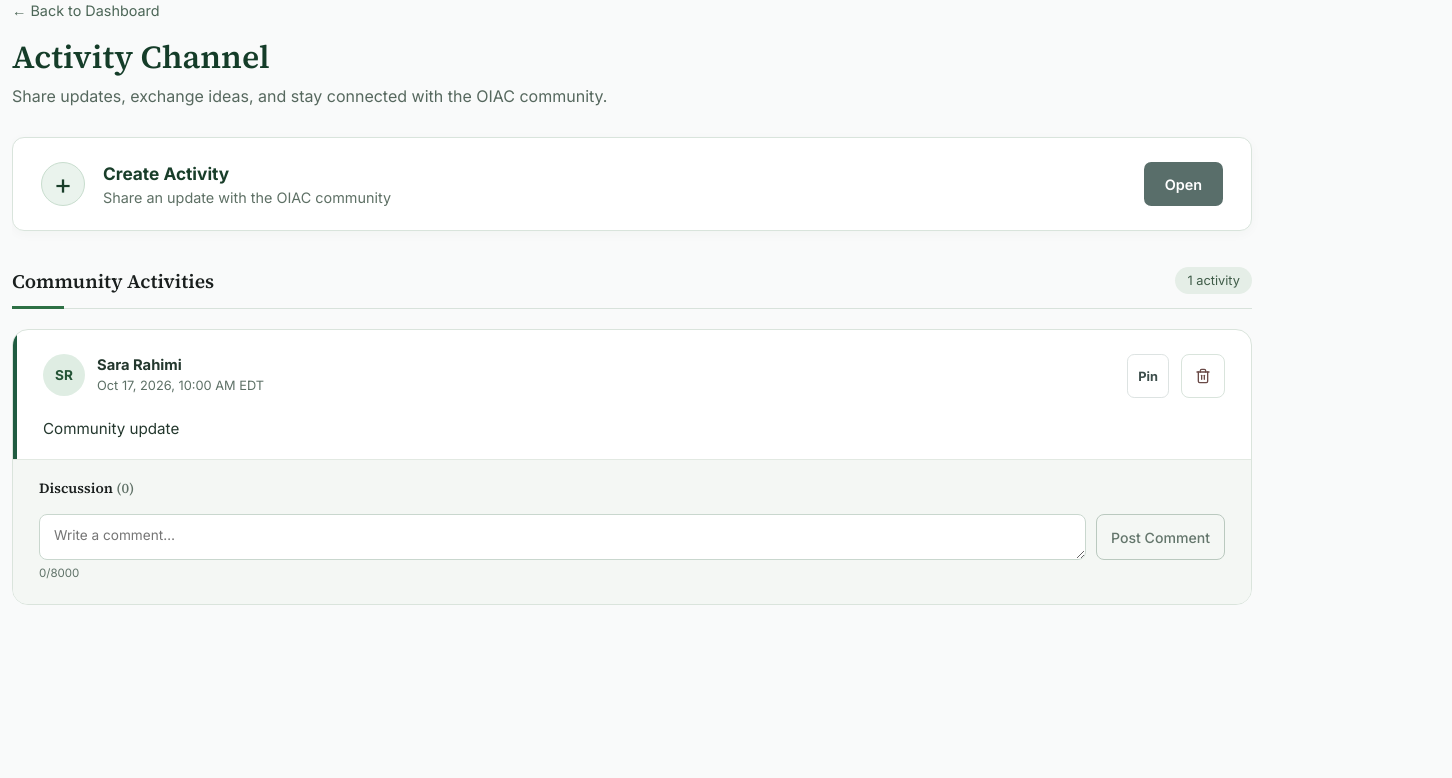
Test: confirmed comment remains saved when its refresh fails, with a retry for reads
Expected: the text "Community update" is shown, [43,419,179,438]
Type "New comment" into the text box named "Comment content" at {"x": 562, "y": 537}, box [39,514,1086,560]
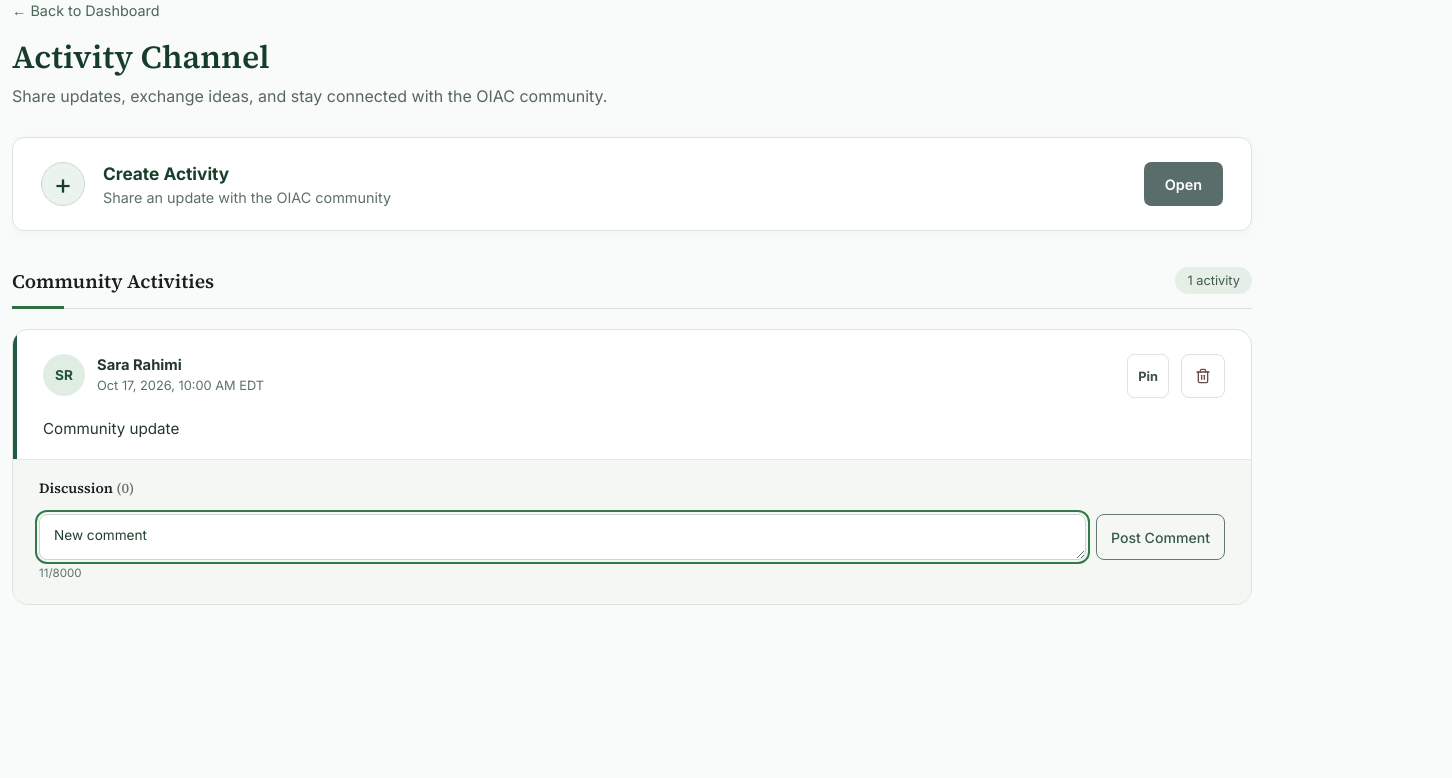
Click the button "Post Comment" at {"x": 1160, "y": 537}, box [1096,514,1225,560]
(page scrolled)
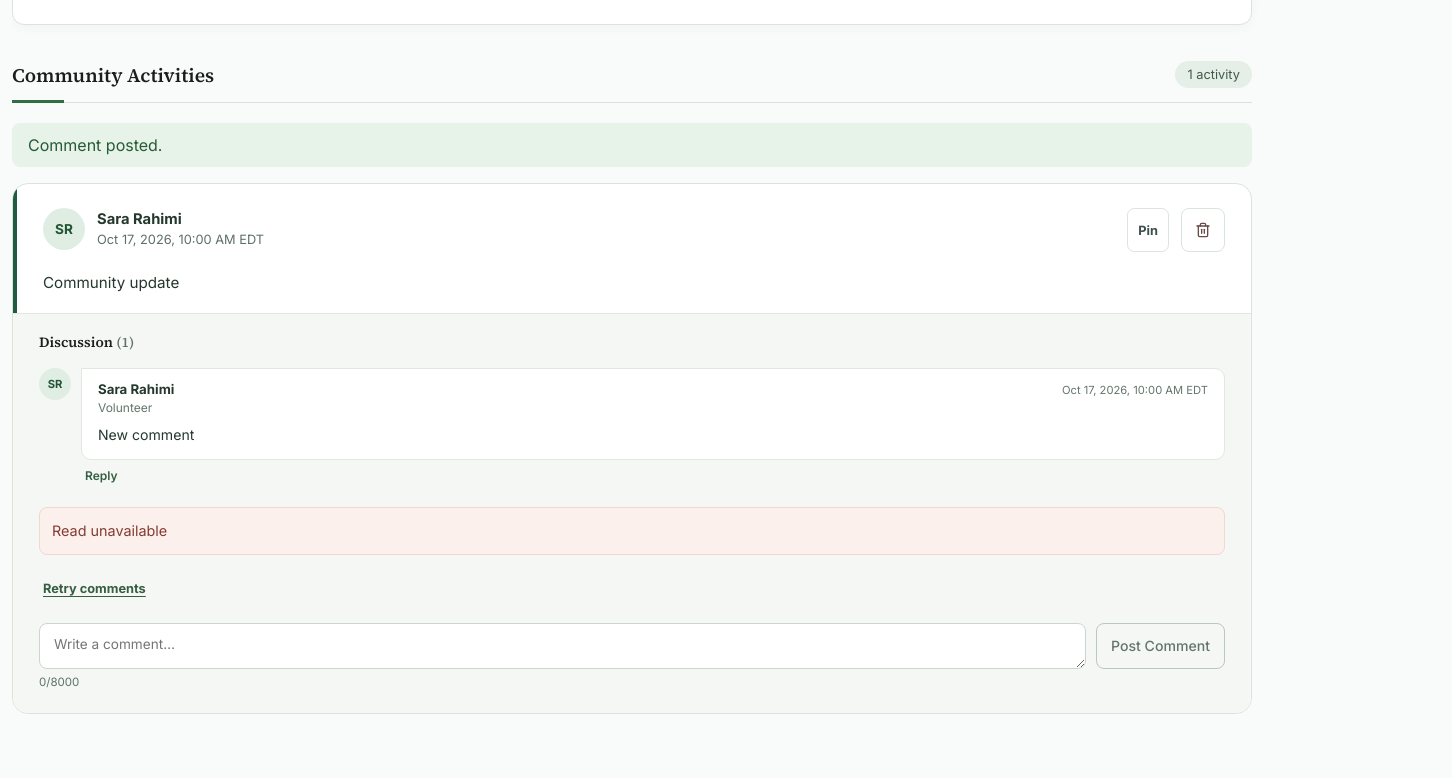
Result: the text "Comment posted." is shown at [12,123,1252,167]
Result: the text "Read unavailable" is shown at [39,507,1225,555]
Result: the text box named "Comment content" is empty at [39,623,1086,669]
